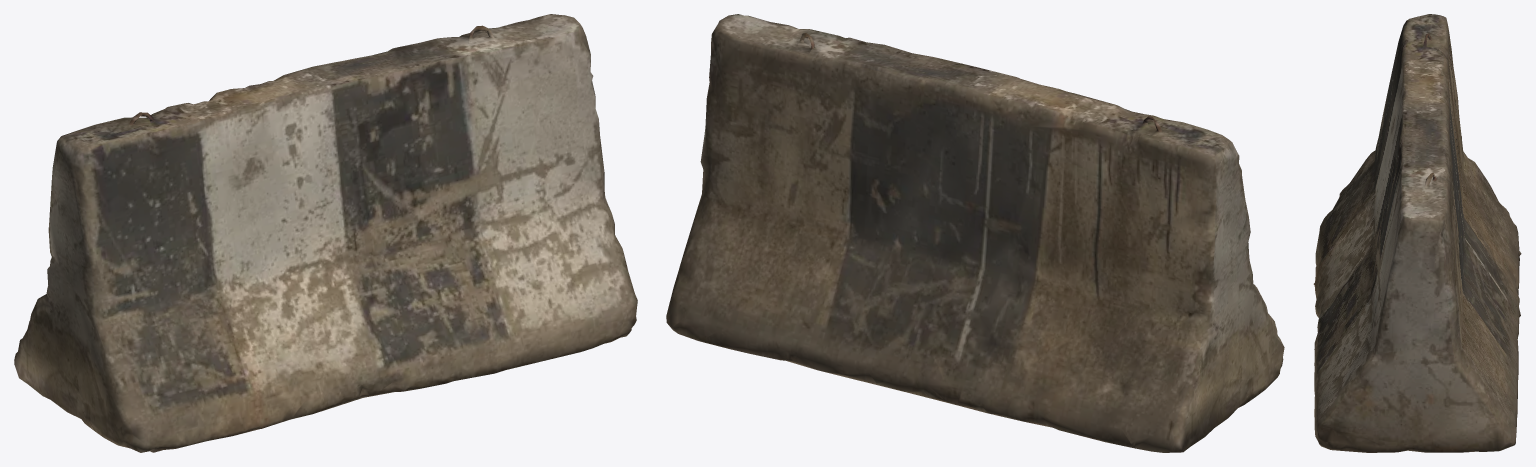
Rendered from concrete_road_barrier.glb.
3 renders of one model, left to right at view 1: azimuth 30°, elevation 25°; view 2: azimuth 150°, elevation 25°; view 3: azimuth 270°, elevation 25°, orthographic. The views are drawn at different scales.
Visible parts, largest first — view 1: concrete_road_barrier; view 2: concrete_road_barrier; view 3: concrete_road_barrier.
Part boxes in pixels (left/top/right/bottom): concrete_road_barrier: left=14, top=14, right=637, bottom=452; concrete_road_barrier: left=666, top=14, right=1284, bottom=452; concrete_road_barrier: left=1313, top=14, right=1521, bottom=452.
Bounding box in the file's own units: 1.54 × 0.8304 × 0.6388.
1 material, 1 textured.
